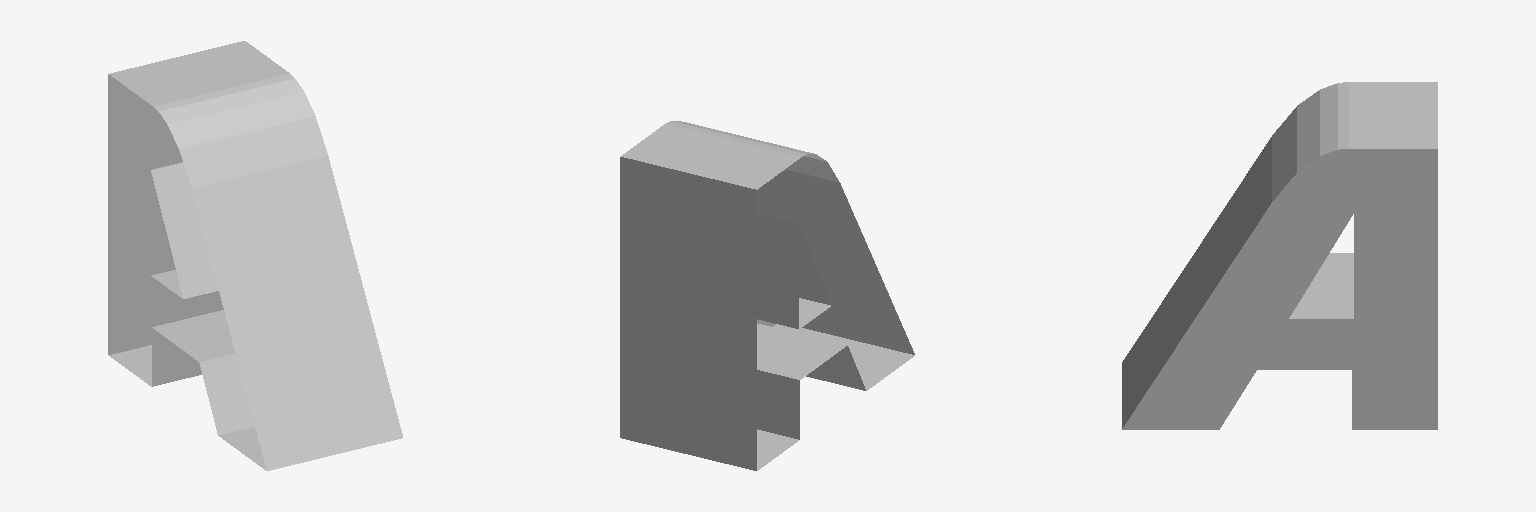
Rendered from typemesh_A.obj.
The picture shows the model from 3 angles: view 1: azimuth 30°, elevation 25°; view 2: azimuth 150°, elevation 25°; view 3: azimuth 270°, elevation 25°; orthographic projection.
Visible parts, largest first — view 1: typeMesh_A group2; view 2: typeMesh_A group2; view 3: typeMesh_A group2.
Boxes of the visible parts, box(x1,y1,x2,y2) form: typeMesh_A group2: box(108, 41, 402, 470); typeMesh_A group2: box(620, 121, 914, 470); typeMesh_A group2: box(1122, 82, 1437, 429).
Bounding box in the file's own units: 0.0946 × 0.1863 × 0.1901.